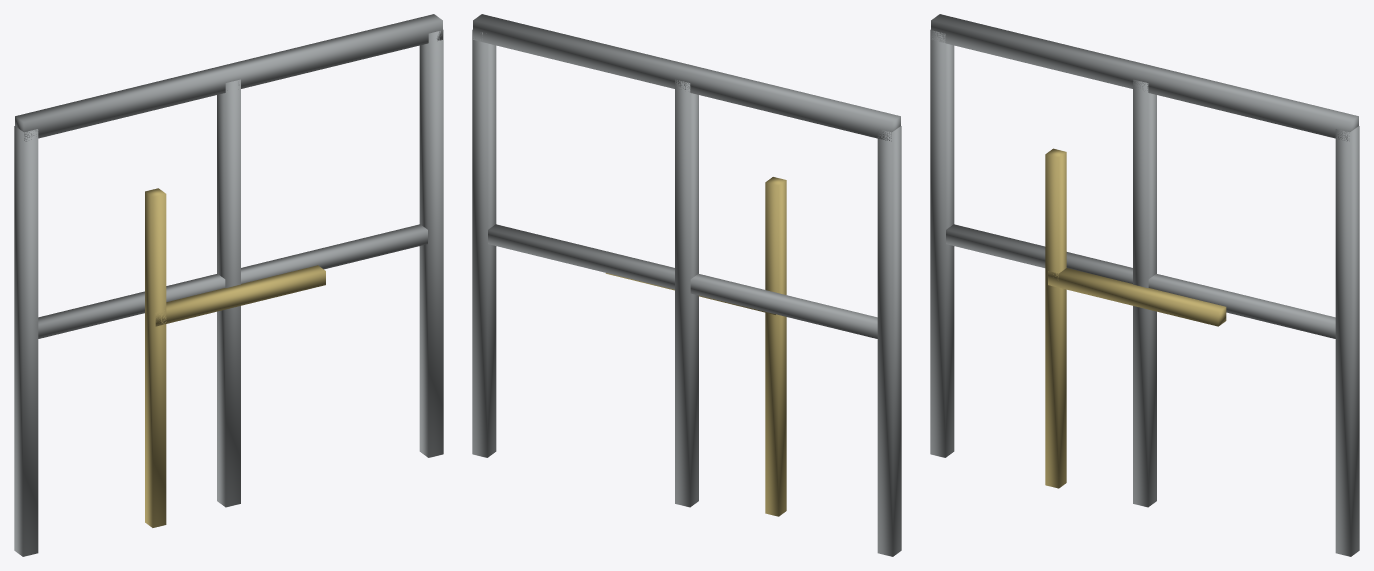
File: residential_gate_l120_h120.glb
3 renders of one model, left to right at view 1: azimuth 30°, elevation 25°; view 2: azimuth 150°, elevation 25°; view 3: azimuth 330°, elevation 25°, orthographic.
Parts seen in each view (by area): view 1: world; view 2: world; view 3: world.
Part boxes in pixels (x1,y1,x2,y2): world: [14, 14, 443, 556]; world: [472, 14, 901, 556]; world: [930, 14, 1359, 556].
Size of the model in its own units: 1.25 by 1.23 by 0.0825.
